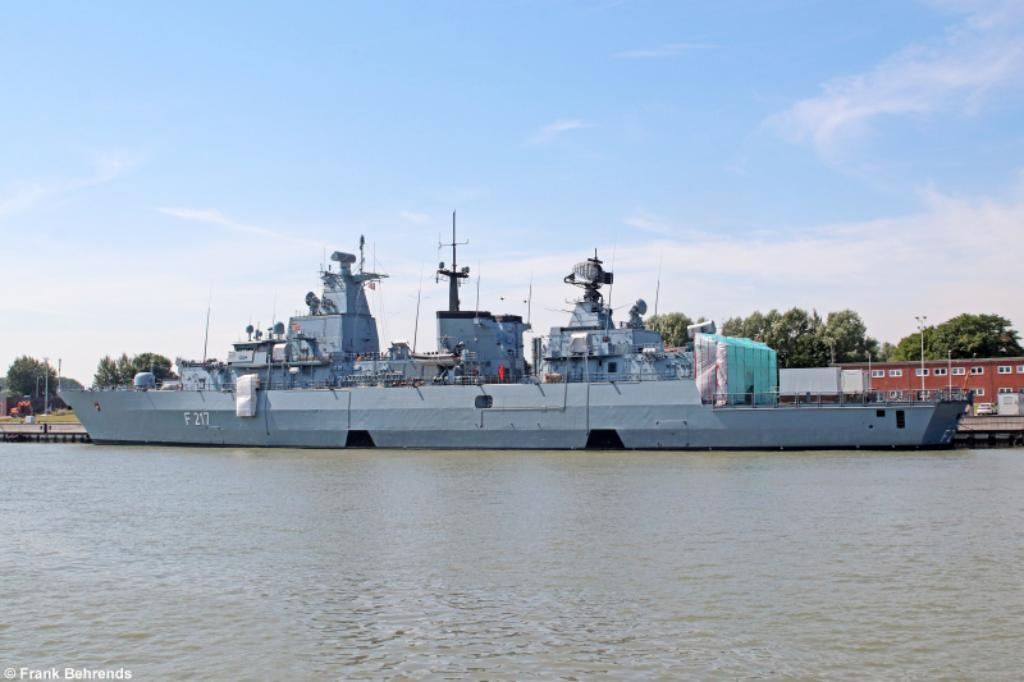Warship: (52, 206, 978, 450)
